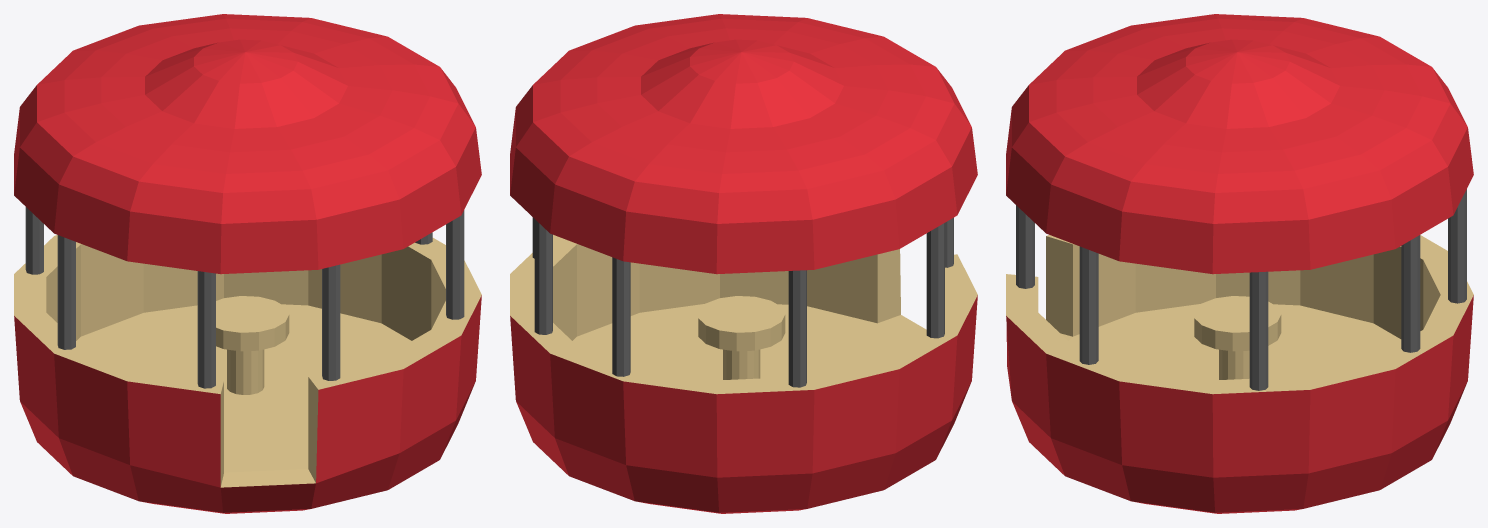
The model's file is WirelessCart.fbx.
3 renders of one model, left to right at view 1: azimuth 30°, elevation 25°; view 2: azimuth 150°, elevation 25°; view 3: azimuth 270°, elevation 25°, orthographic.
Parts seen in each view (by area): view 1: Sphere.001; view 2: Sphere.001; view 3: Sphere.001.
Boxes of the visible parts, x1,y1,x2,y2 form: Sphere.001: (14, 14, 481, 513); Sphere.001: (510, 14, 977, 513); Sphere.001: (1006, 14, 1473, 513).
Bounding box in the file's own units: 199 × 190 × 198.
